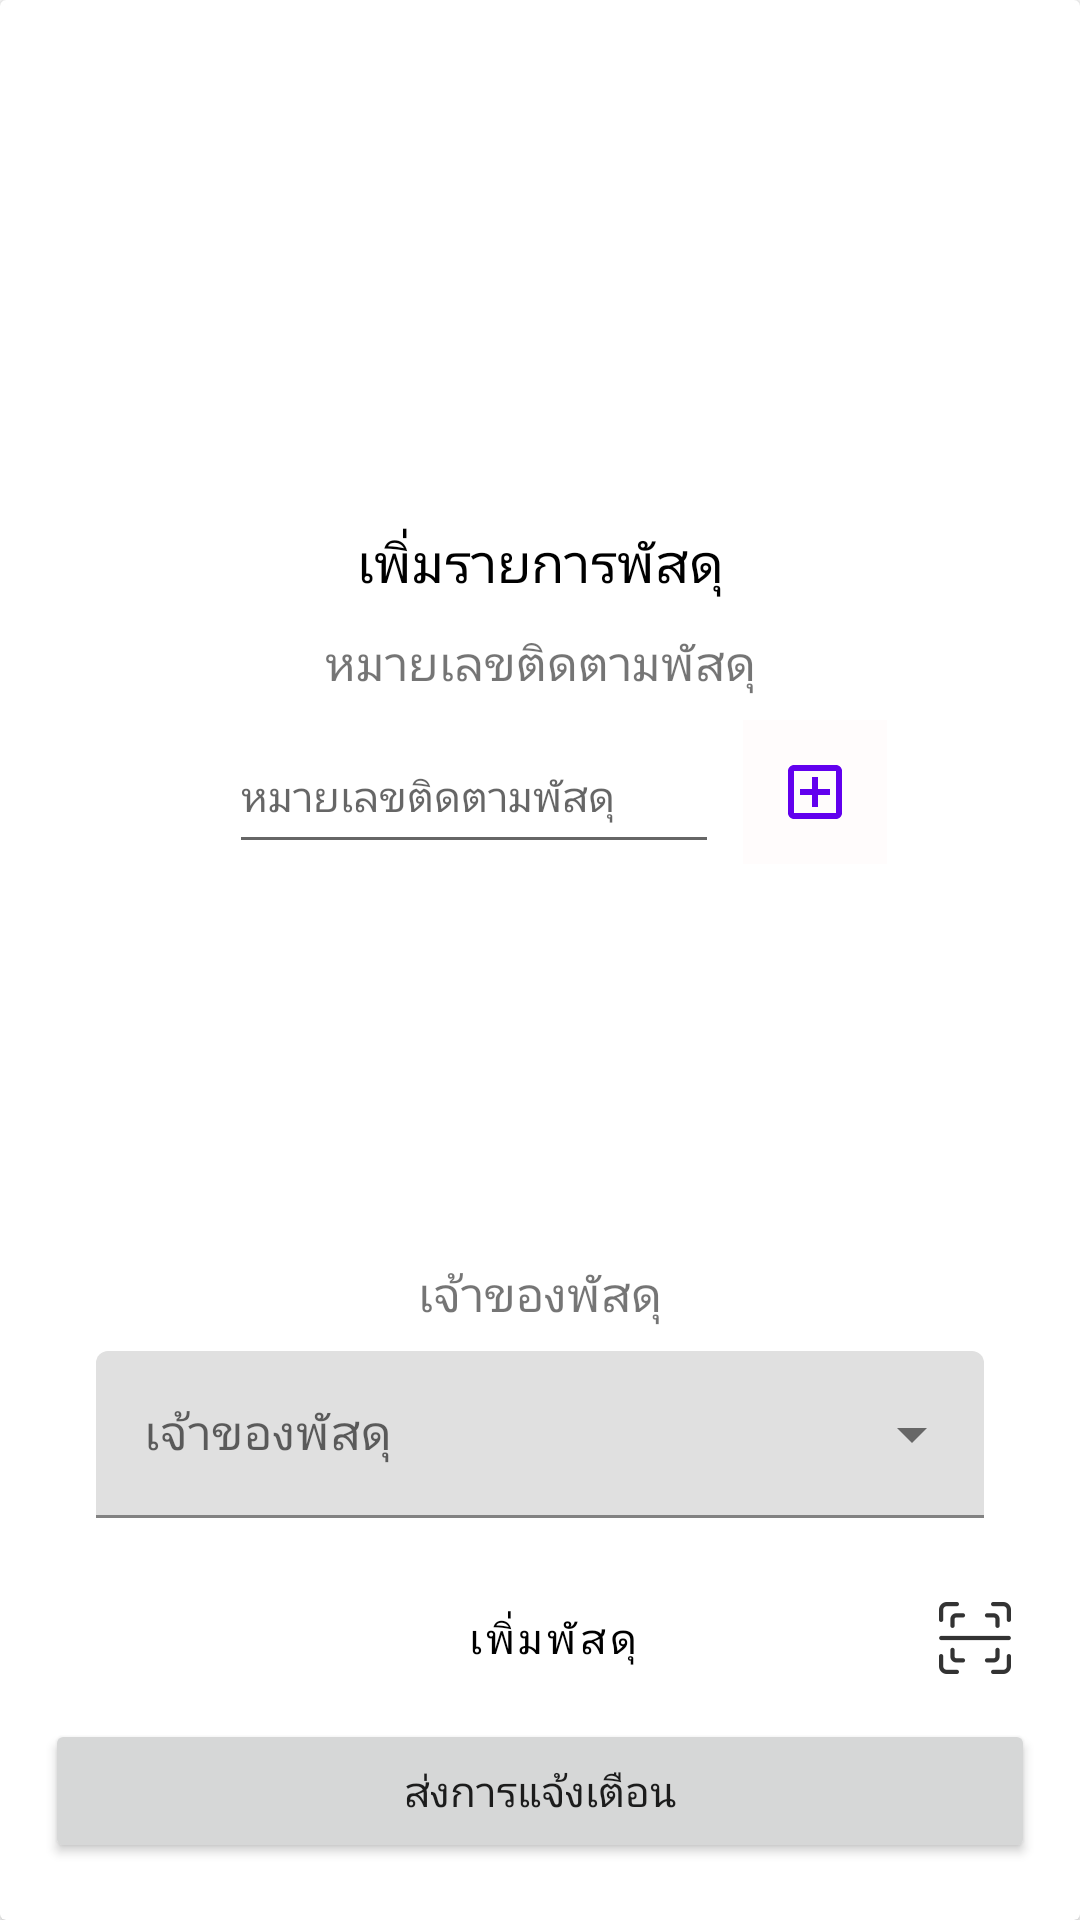

Where to tap for icons on this 1080×1920 app screen, as (x=x, y=y):
add box: (x=815, y=792)
